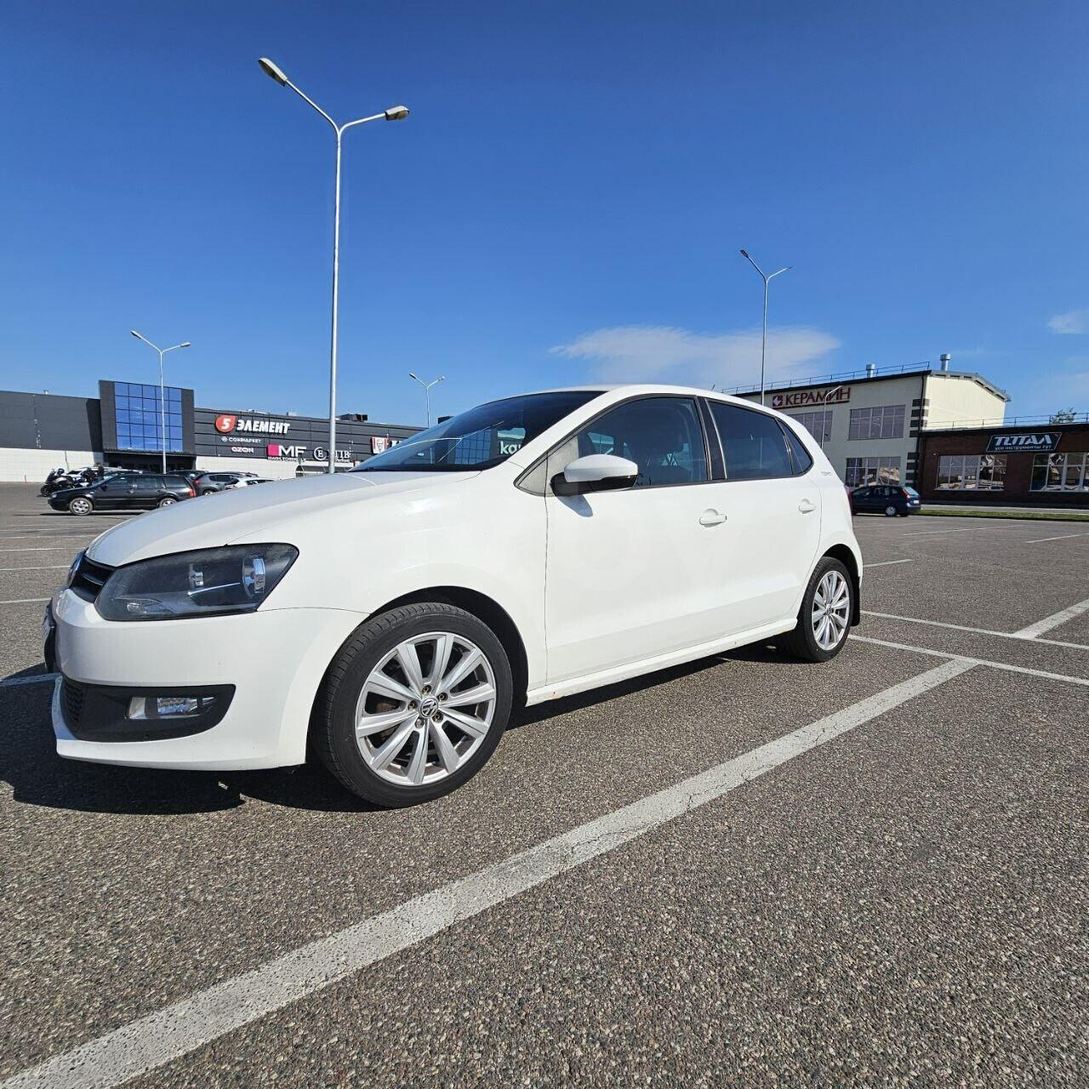Polo_2009-2015: (15, 370, 882, 819)
